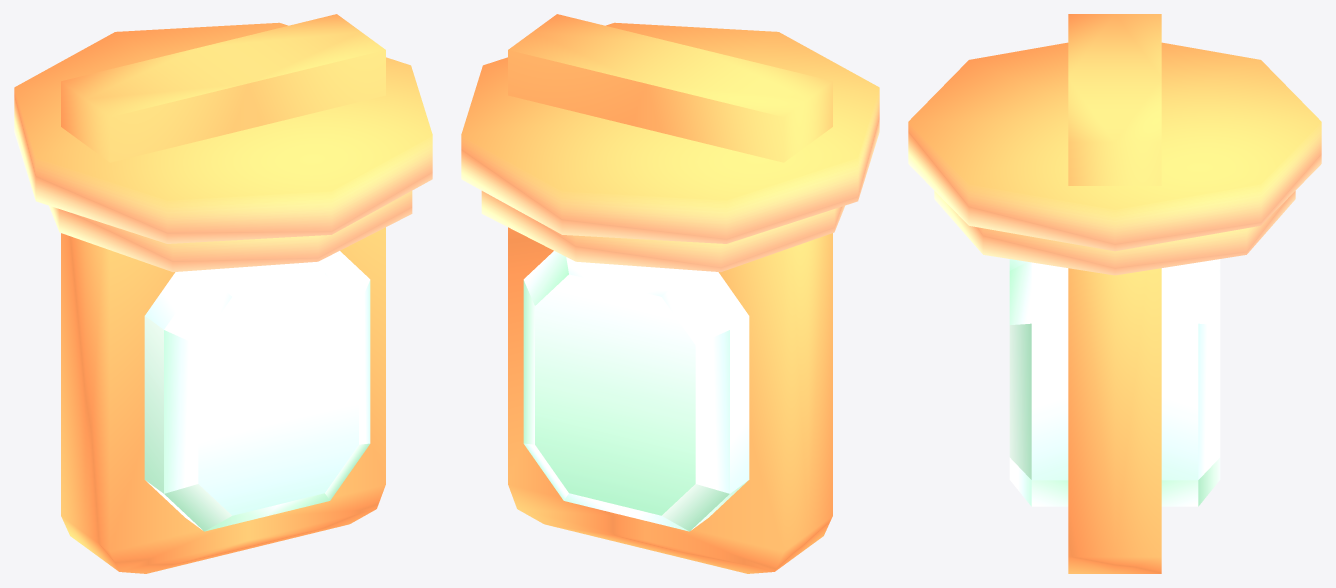
The model's file is wood_pommel_193_004.glb.
3 views of the same model, side by side, from view 1: azimuth 30°, elevation 25°; view 2: azimuth 150°, elevation 25°; view 3: azimuth 270°, elevation 25° (orthographic). The views are drawn at different scales.
Visible parts, largest first — view 1: wood_pommel_193.004; view 2: wood_pommel_193.004; view 3: wood_pommel_193.004.
Boxes of the visible parts, bbox=[...] form: wood_pommel_193.004: bbox=[14, 14, 432, 573]; wood_pommel_193.004: bbox=[461, 14, 879, 573]; wood_pommel_193.004: bbox=[908, 14, 1321, 573].
Bounding box in the file's own units: 1.83 × 2.17 × 1.83.
Materials: 1 (1 with a texture image).
